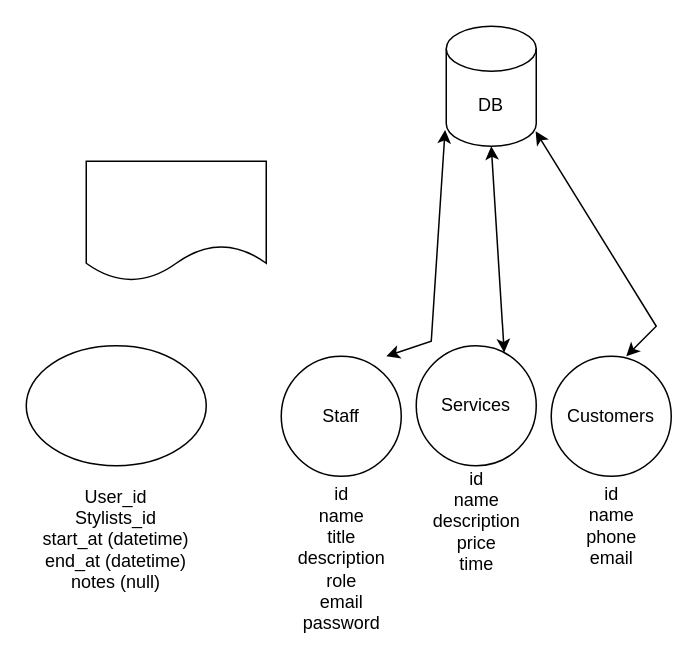
This 698x668 diagram has some shape labels left out. Each missing label, with the centre of its shape:
"Appointments" goes at point (115, 405).
"Email to customer for appointmant's details" goes at point (175, 220).
